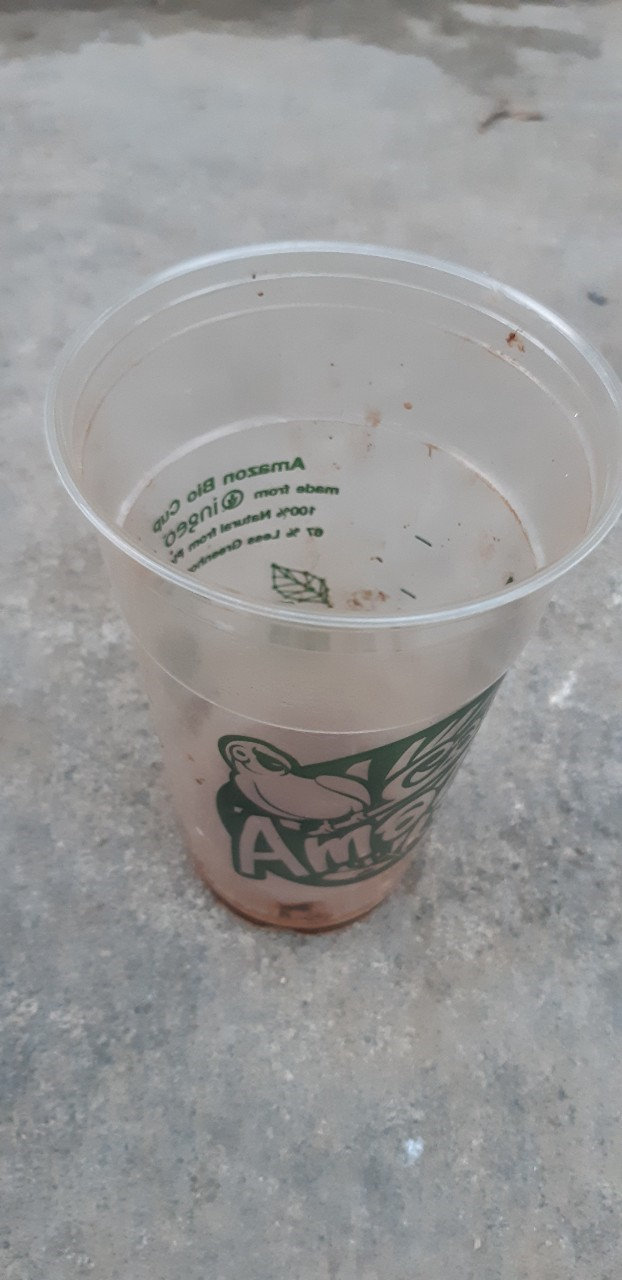PlasticCup: (47, 227, 620, 949)
